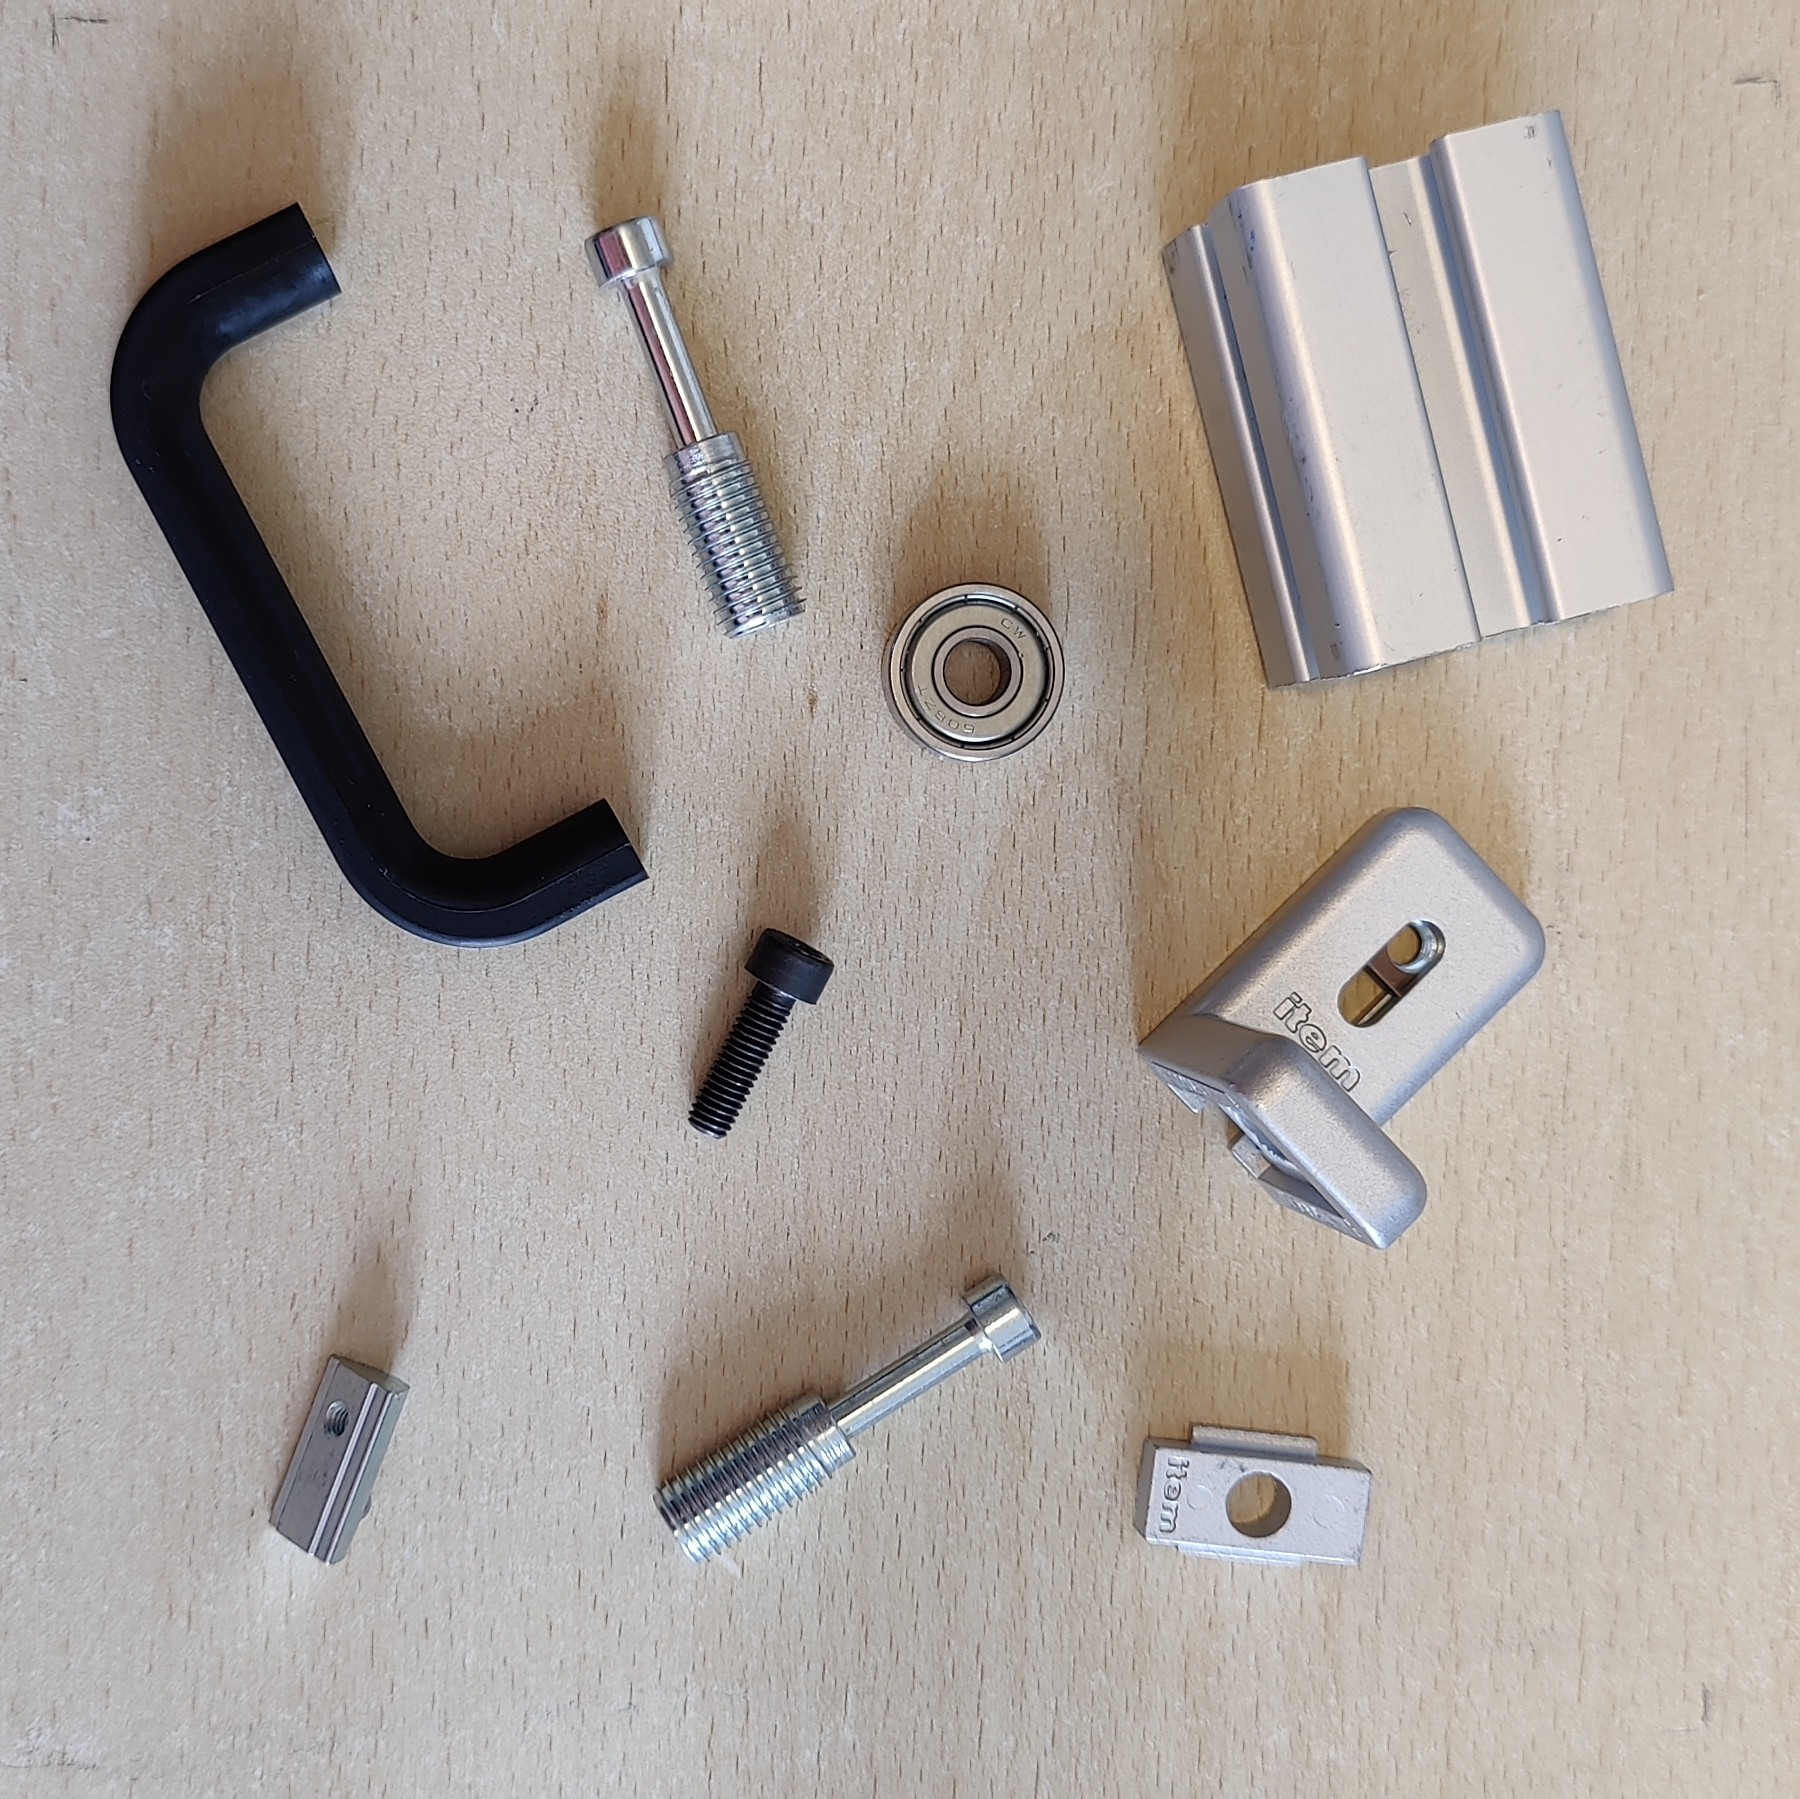Aluminium Extension: (1154, 105, 1680, 695)
Ball Bearing: (879, 580, 1070, 768)
Multiwinkel: (1133, 802, 1551, 1257)
Pull Handle: (105, 196, 651, 951)
Shoulder Socket Head Cap Screw: (651, 1269, 1044, 1568), (580, 208, 809, 641)
Socket Head Cap Screw: (687, 923, 837, 1143)
T Nut Square: (1131, 1417, 1373, 1572)
T Spring Nut: (265, 1348, 412, 1568)
